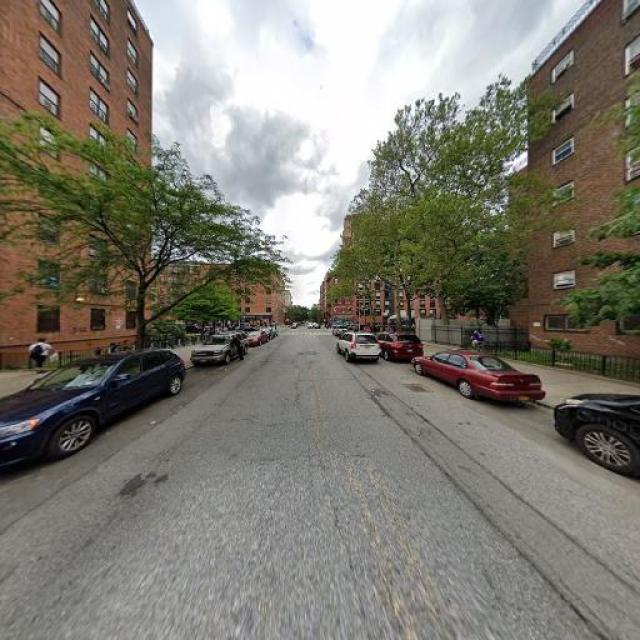Building: (1, 1, 149, 364), (532, 1, 640, 364)
